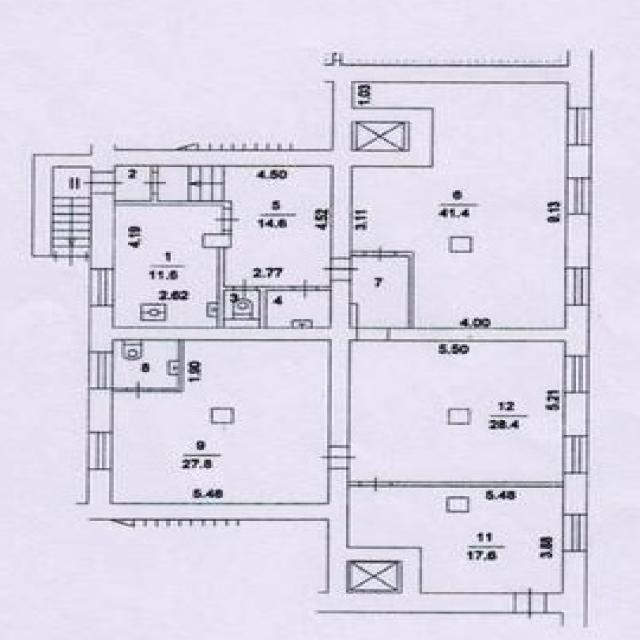Bathrooms: (116, 341, 176, 386), (271, 291, 329, 327), (227, 291, 258, 327)
Corridors: (227, 167, 330, 284), (119, 168, 149, 198)
Doors: (513, 586, 547, 621), (319, 257, 364, 282), (81, 171, 127, 195), (317, 444, 361, 469), (212, 208, 241, 232), (361, 244, 396, 263), (291, 278, 319, 301), (359, 473, 391, 493), (139, 173, 167, 194), (127, 379, 150, 401), (230, 278, 258, 296), (356, 328, 389, 341)
LBwalls: (90, 82, 435, 257), (113, 282, 357, 445), (324, 48, 594, 106), (75, 470, 329, 522), (327, 469, 424, 594), (30, 153, 91, 259), (315, 592, 514, 613), (547, 551, 588, 628), (388, 328, 565, 342), (90, 194, 117, 268), (564, 216, 590, 267), (564, 305, 588, 355), (87, 390, 115, 432), (87, 305, 113, 350), (563, 393, 587, 435), (561, 473, 587, 511), (564, 145, 593, 179), (201, 233, 234, 249), (447, 407, 473, 425), (445, 496, 471, 514), (209, 407, 235, 425), (449, 236, 473, 254)
Offices: (355, 83, 567, 328), (113, 342, 329, 502), (353, 343, 562, 481), (352, 488, 561, 592), (118, 209, 217, 326)
Stairs: (53, 168, 90, 267), (354, 259, 406, 328), (160, 167, 234, 199)
Walls: (151, 342, 186, 395), (395, 249, 418, 328), (116, 194, 233, 209), (256, 285, 291, 329), (216, 249, 233, 327), (391, 481, 564, 488), (332, 52, 342, 66), (347, 481, 361, 488), (351, 250, 363, 258), (114, 387, 127, 394), (150, 166, 160, 174), (319, 285, 332, 291)
Windows: (566, 107, 594, 147), (562, 356, 590, 394), (88, 268, 115, 307), (564, 178, 591, 216), (564, 267, 591, 305), (562, 435, 589, 473), (86, 351, 112, 390), (86, 432, 112, 470), (561, 513, 587, 551)
